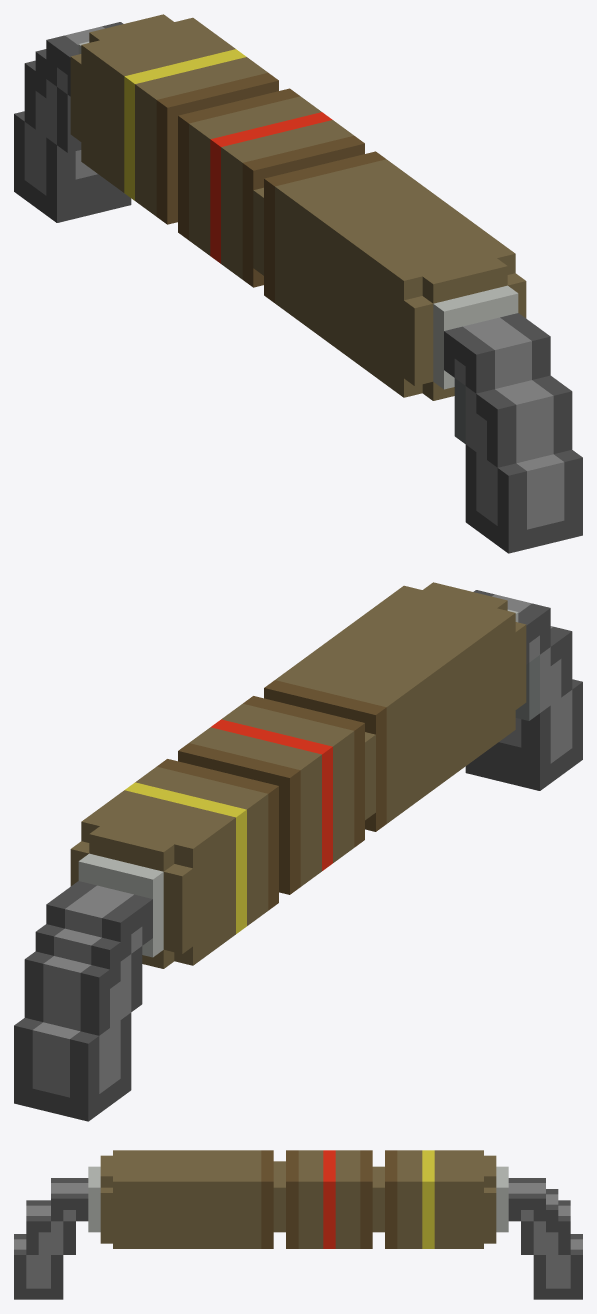
The model's file is Resistor.fbx.
3 renders of one model, top to bottom at view 1: azimuth 30°, elevation 25°; view 2: azimuth 150°, elevation 25°; view 3: azimuth 270°, elevation 25°, orthographic. The views are drawn at different scales.
Visible parts, largest first — view 1: Resistor; view 2: Resistor; view 3: Resistor.
Part boxes in pixels (left/top/right/bottom): Resistor: left=14, top=14, right=582, bottom=553; Resistor: left=14, top=582, right=582, bottom=1121; Resistor: left=14, top=1150, right=582, bottom=1299.
Size of the model in its own units: 0.6 by 1.1 by 4.6.
Materials: 1 (1 with a texture image).
